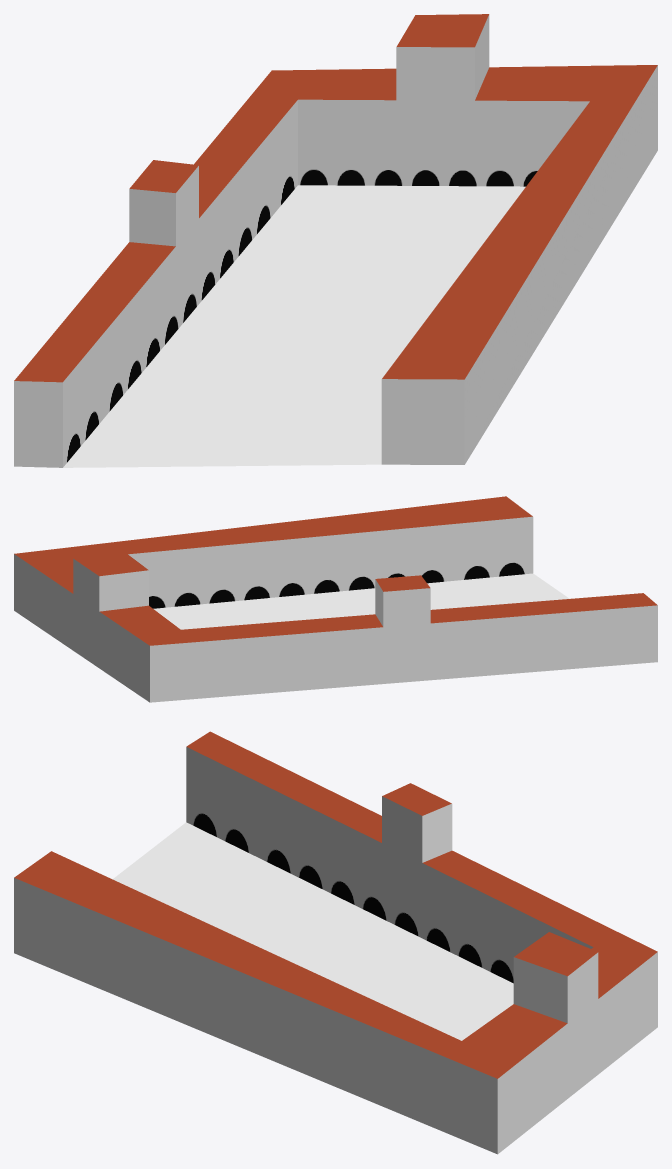
The model's file is ModellinoForo 1.fbx.
3 renders of one model, top to bottom at view 1: azimuth 30°, elevation 25°; view 2: azimuth 150°, elevation 25°; view 3: azimuth 270°, elevation 25°, orthographic. The views are drawn at different scales.
Visible parts, largest first — view 1: Mappa2.001, Mappa2.002; view 2: Mappa2.001, Mappa2.002; view 3: Mappa2.001, Mappa2.002.
Boxes of the visible parts, left/top/right/bottom form: Mappa2.001: left=14, top=14, right=657, bottom=467; Mappa2.002: left=63, top=185, right=525, bottom=467; Mappa2.001: left=14, top=496, right=657, bottom=702; Mappa2.002: left=153, top=573, right=569, bottom=629; Mappa2.001: left=14, top=731, right=657, bottom=1154; Mappa2.002: left=112, top=822, right=513, bottom=1040.
Bounding box in the file's own units: 11.1 × 1.82 × 8.69.
